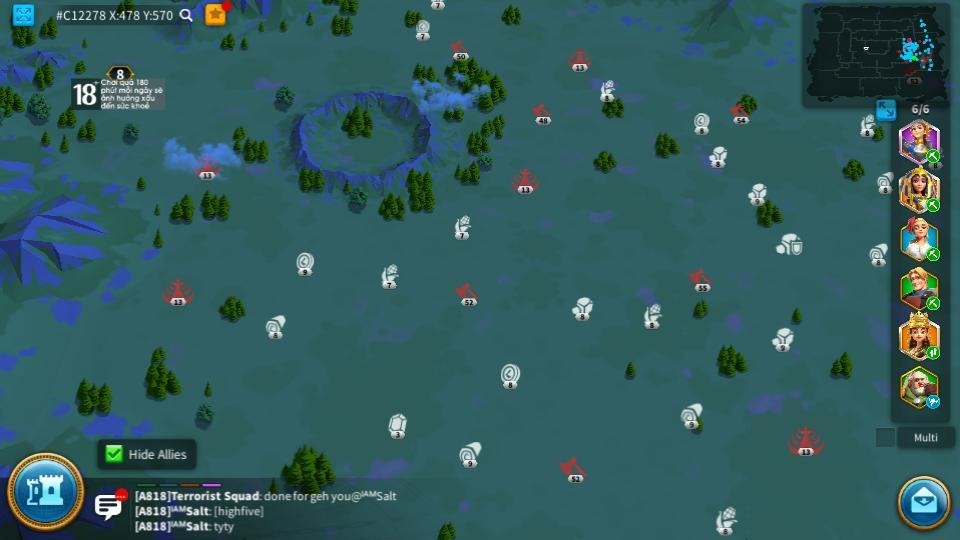gem-z-out: (385, 414, 408, 437)
march_idle: (925, 396, 942, 408)
march_marching: (925, 197, 941, 212), (925, 347, 942, 359), (925, 149, 941, 161), (925, 248, 941, 260), (925, 297, 942, 308)
